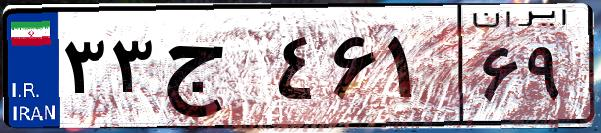1: (385, 28, 445, 110)
3: (57, 26, 110, 100), (110, 28, 158, 98)
4: (270, 28, 330, 110)
6: (330, 28, 385, 110), (475, 38, 525, 113)
9: (525, 38, 570, 115)
ج: (158, 20, 270, 120)
